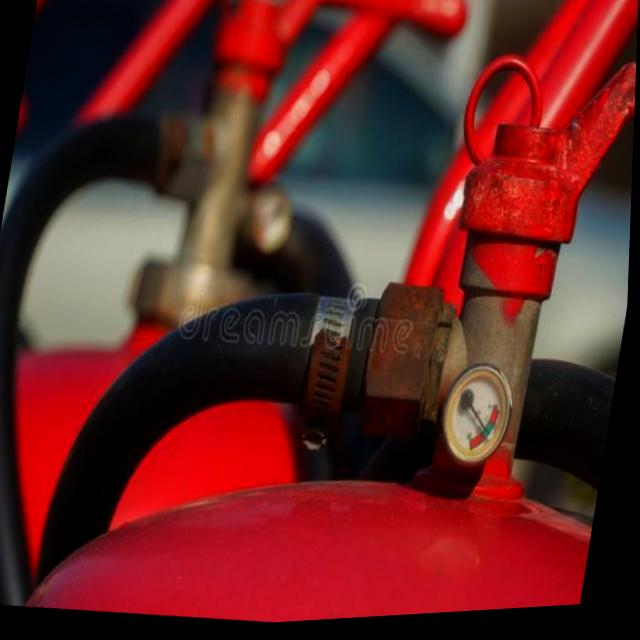FireExtinguisher: (14, 0, 639, 638), (0, 0, 387, 640)
